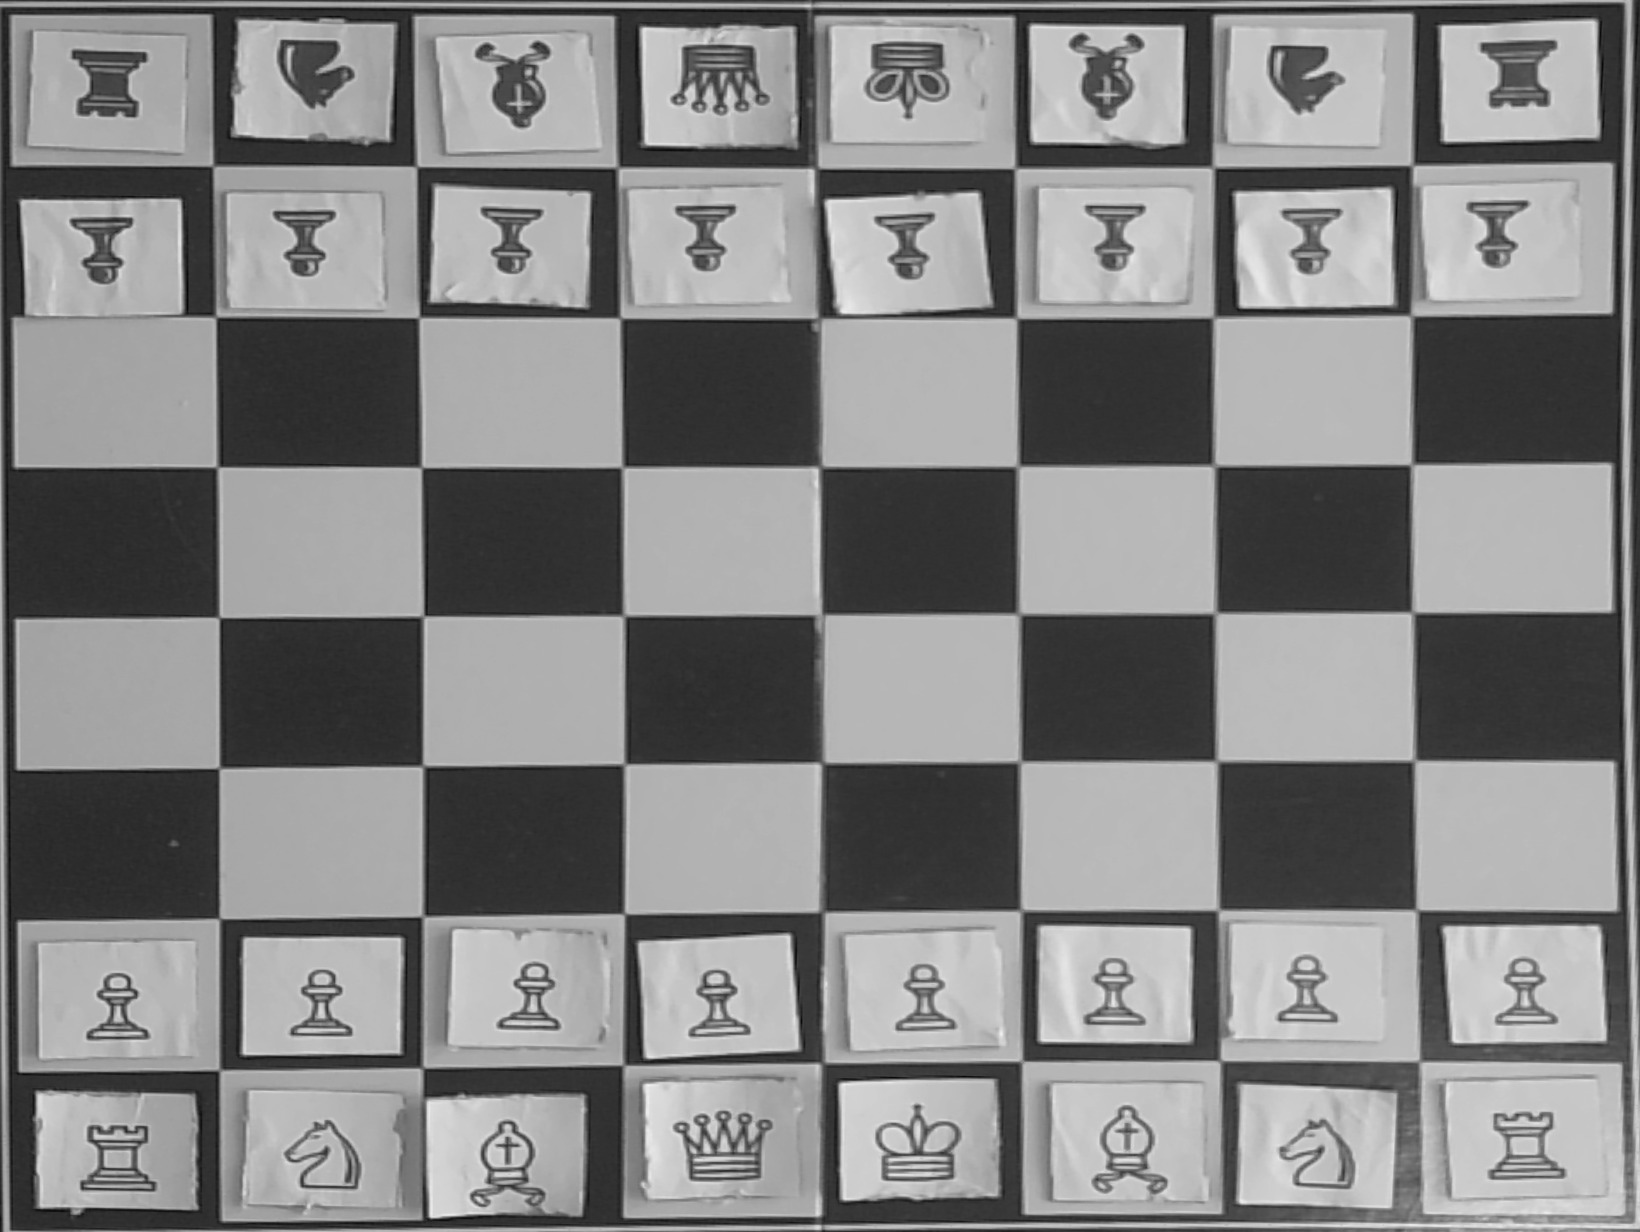b_bishop: (461, 39, 571, 142), (1055, 28, 1164, 131)
b_king: (853, 32, 973, 133)
b_knight: (1252, 36, 1363, 129), (267, 30, 377, 123)
b_pawn: (1061, 192, 1171, 283), (52, 208, 161, 300), (848, 204, 957, 296), (1446, 190, 1556, 281), (456, 201, 564, 291)
b_queen: (656, 36, 777, 132)
b_rook: (1465, 28, 1578, 127), (56, 38, 170, 135)
w_bishop: (1070, 1097, 1186, 1196), (450, 1114, 566, 1211)
w_king: (854, 1090, 992, 1188)
w_knight: (274, 1108, 384, 1198), (1266, 1106, 1375, 1197)
w_pawn: (668, 950, 770, 1047), (870, 943, 972, 1039), (67, 956, 170, 1052), (271, 952, 371, 1048), (485, 945, 586, 1040)
w_queen: (658, 1095, 790, 1192)
w_rook: (61, 1109, 180, 1202), (1467, 1097, 1586, 1191)
